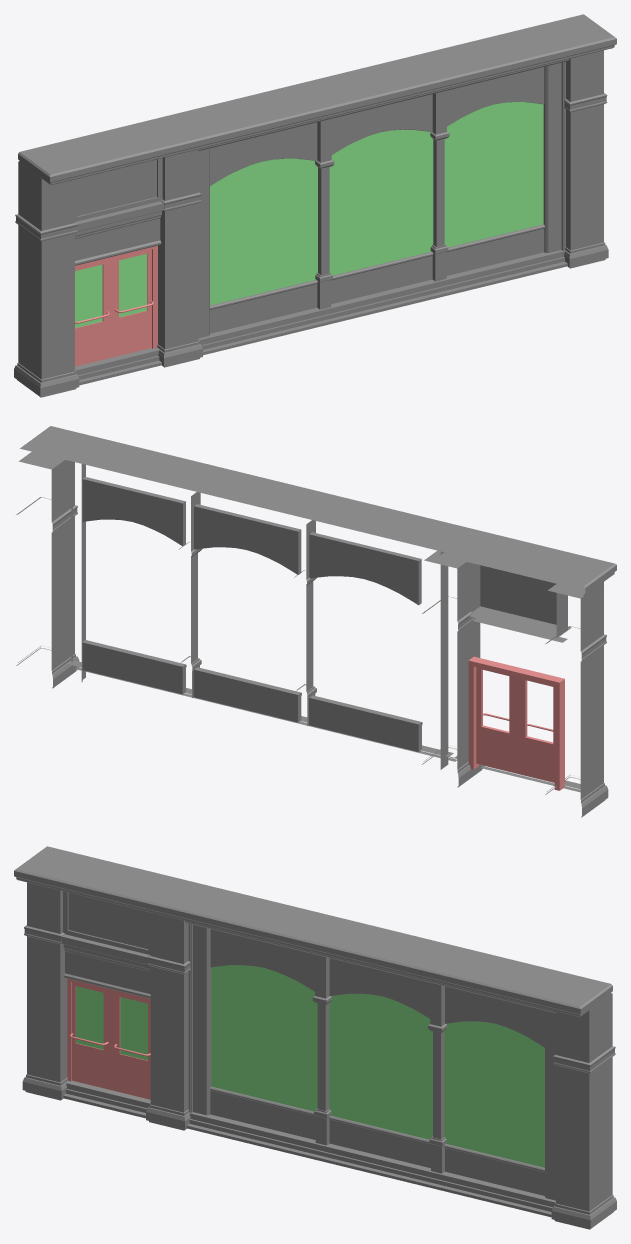
The model's file is S_Envi_Fyz_Building_63e.gltf.
The picture shows the model from 3 angles, top to bottom: view 1: azimuth 30°, elevation 25°; view 2: azimuth 150°, elevation 25°; view 3: azimuth 330°, elevation 25°; orthographic projection.
Visible parts, largest first — view 1: S_Envi_Fyz_Building_63e; view 2: S_Envi_Fyz_Building_63e; view 3: S_Envi_Fyz_Building_63e.
Boxes of the visible parts, box(x1,y1,x2,y2) form: S_Envi_Fyz_Building_63e: box(14, 14, 616, 397); S_Envi_Fyz_Building_63e: box(16, 426, 616, 817); S_Envi_Fyz_Building_63e: box(14, 846, 616, 1229).
Bounding box in the file's own units: 14.37 × 5.56 × 1.8.
